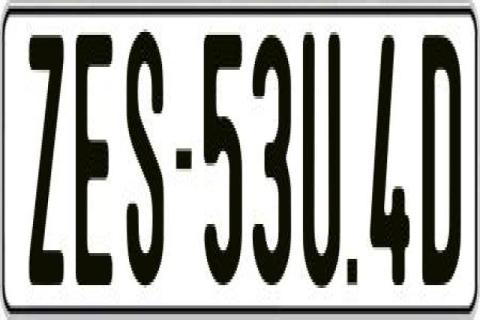0: (200, 26, 244, 282), (368, 35, 408, 303), (251, 29, 291, 279)
D: (420, 29, 465, 291)
E: (74, 32, 112, 291)
S: (126, 27, 166, 286)
U: (302, 23, 340, 297)
Z: (25, 26, 62, 294)
